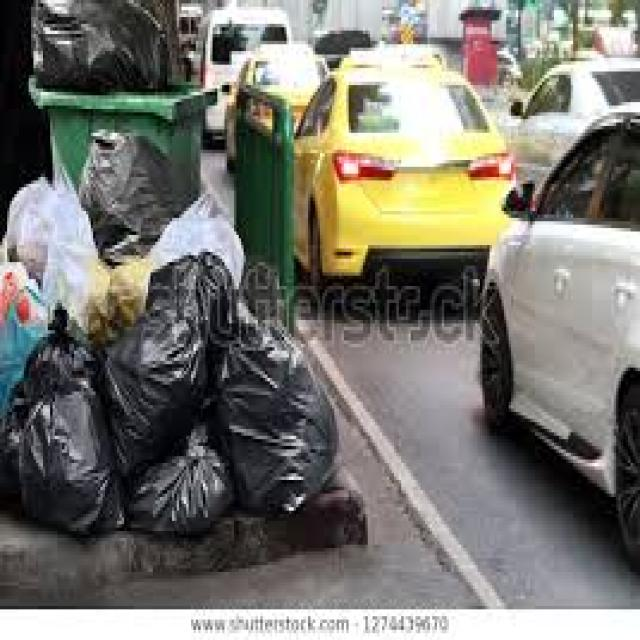plastic_bag: (218, 307, 338, 488), (18, 382, 113, 529), (111, 328, 206, 464), (147, 440, 218, 515)
